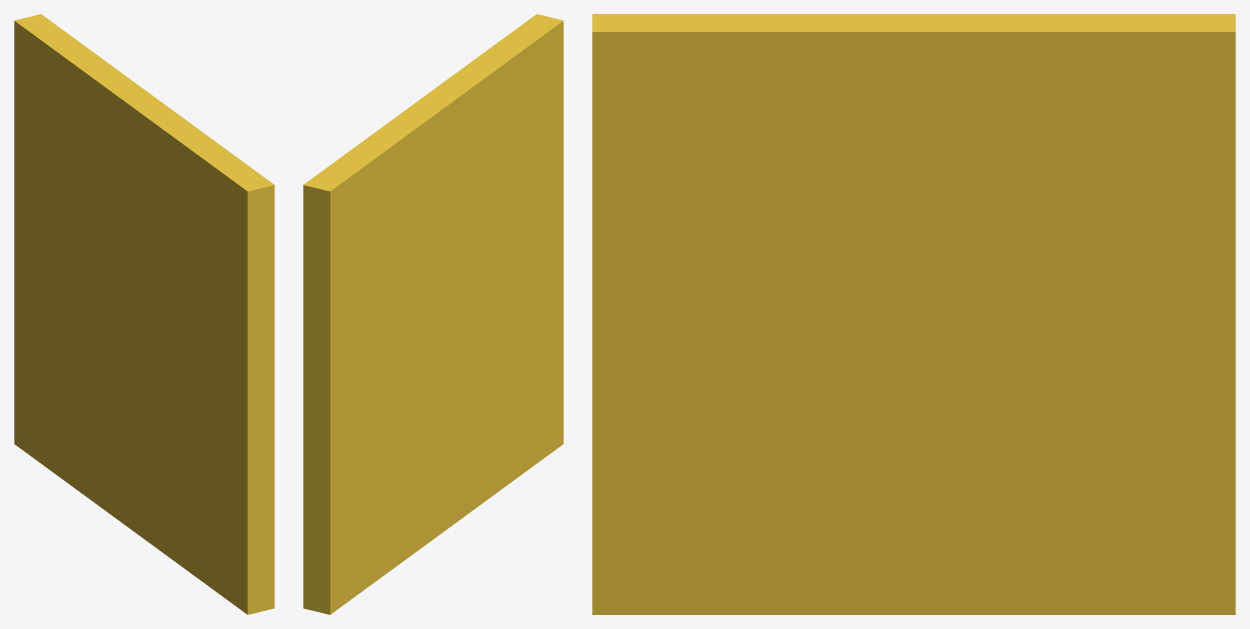
Rendered from Wall1_Middel.fbx.
3 views of the same model, side by side, from view 1: azimuth 30°, elevation 25°; view 2: azimuth 150°, elevation 25°; view 3: azimuth 270°, elevation 25° (orthographic). The views are drawn at different scales.
Visible parts, largest first — view 1: Wall002_Mid; view 2: Wall002_Mid; view 3: Wall002_Mid.
Boxes of the visible parts, left/top/right/bottom form: Wall002_Mid: left=14, top=14, right=274, bottom=614; Wall002_Mid: left=303, top=14, right=563, bottom=614; Wall002_Mid: left=592, top=14, right=1235, bottom=614.
Size of the model in its own units: 7.87 by 118 by 118.
